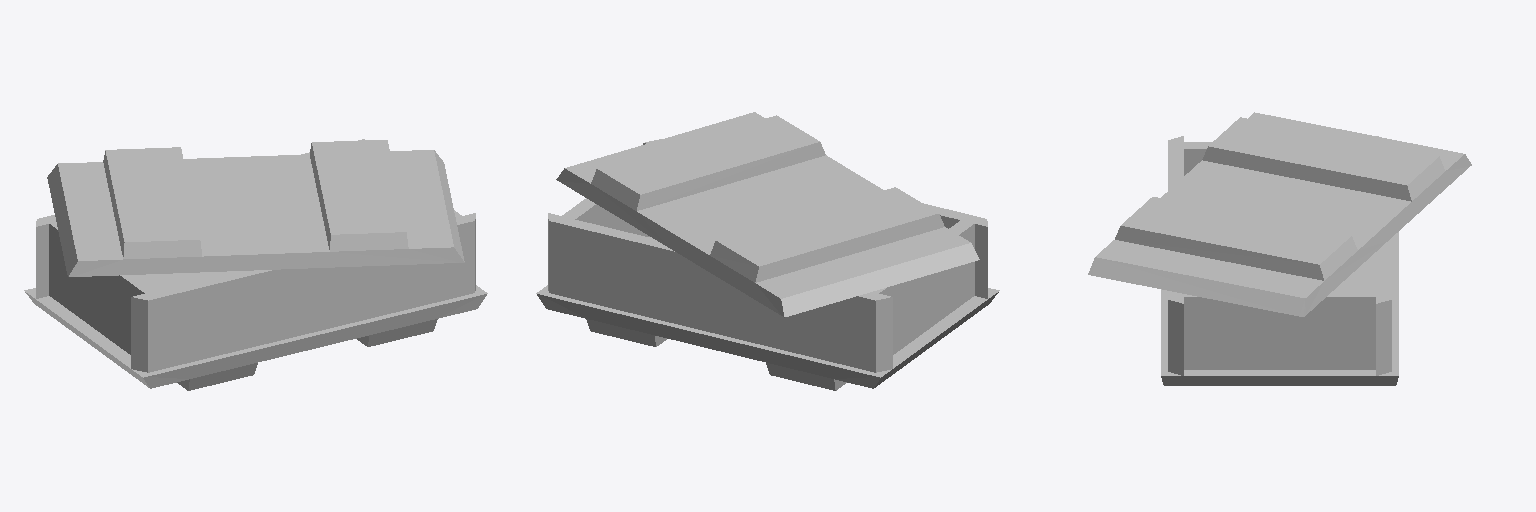
The model's file is Crate-03.obj.
The picture shows the model from 3 angles: view 1: azimuth 30°, elevation 25°; view 2: azimuth 150°, elevation 25°; view 3: azimuth 270°, elevation 25°; orthographic projection.
Parts seen in each view (by area): view 1: Crate_03; view 2: Crate_03; view 3: Crate_03.
Boxes of the visible parts, box(x1,y1,x2,y2) form: Crate_03: box(24, 139, 487, 390); Crate_03: box(536, 112, 999, 390); Crate_03: box(1088, 112, 1471, 385).
Size of the model in its own units: 0.4346 by 0.135 by 0.3618.